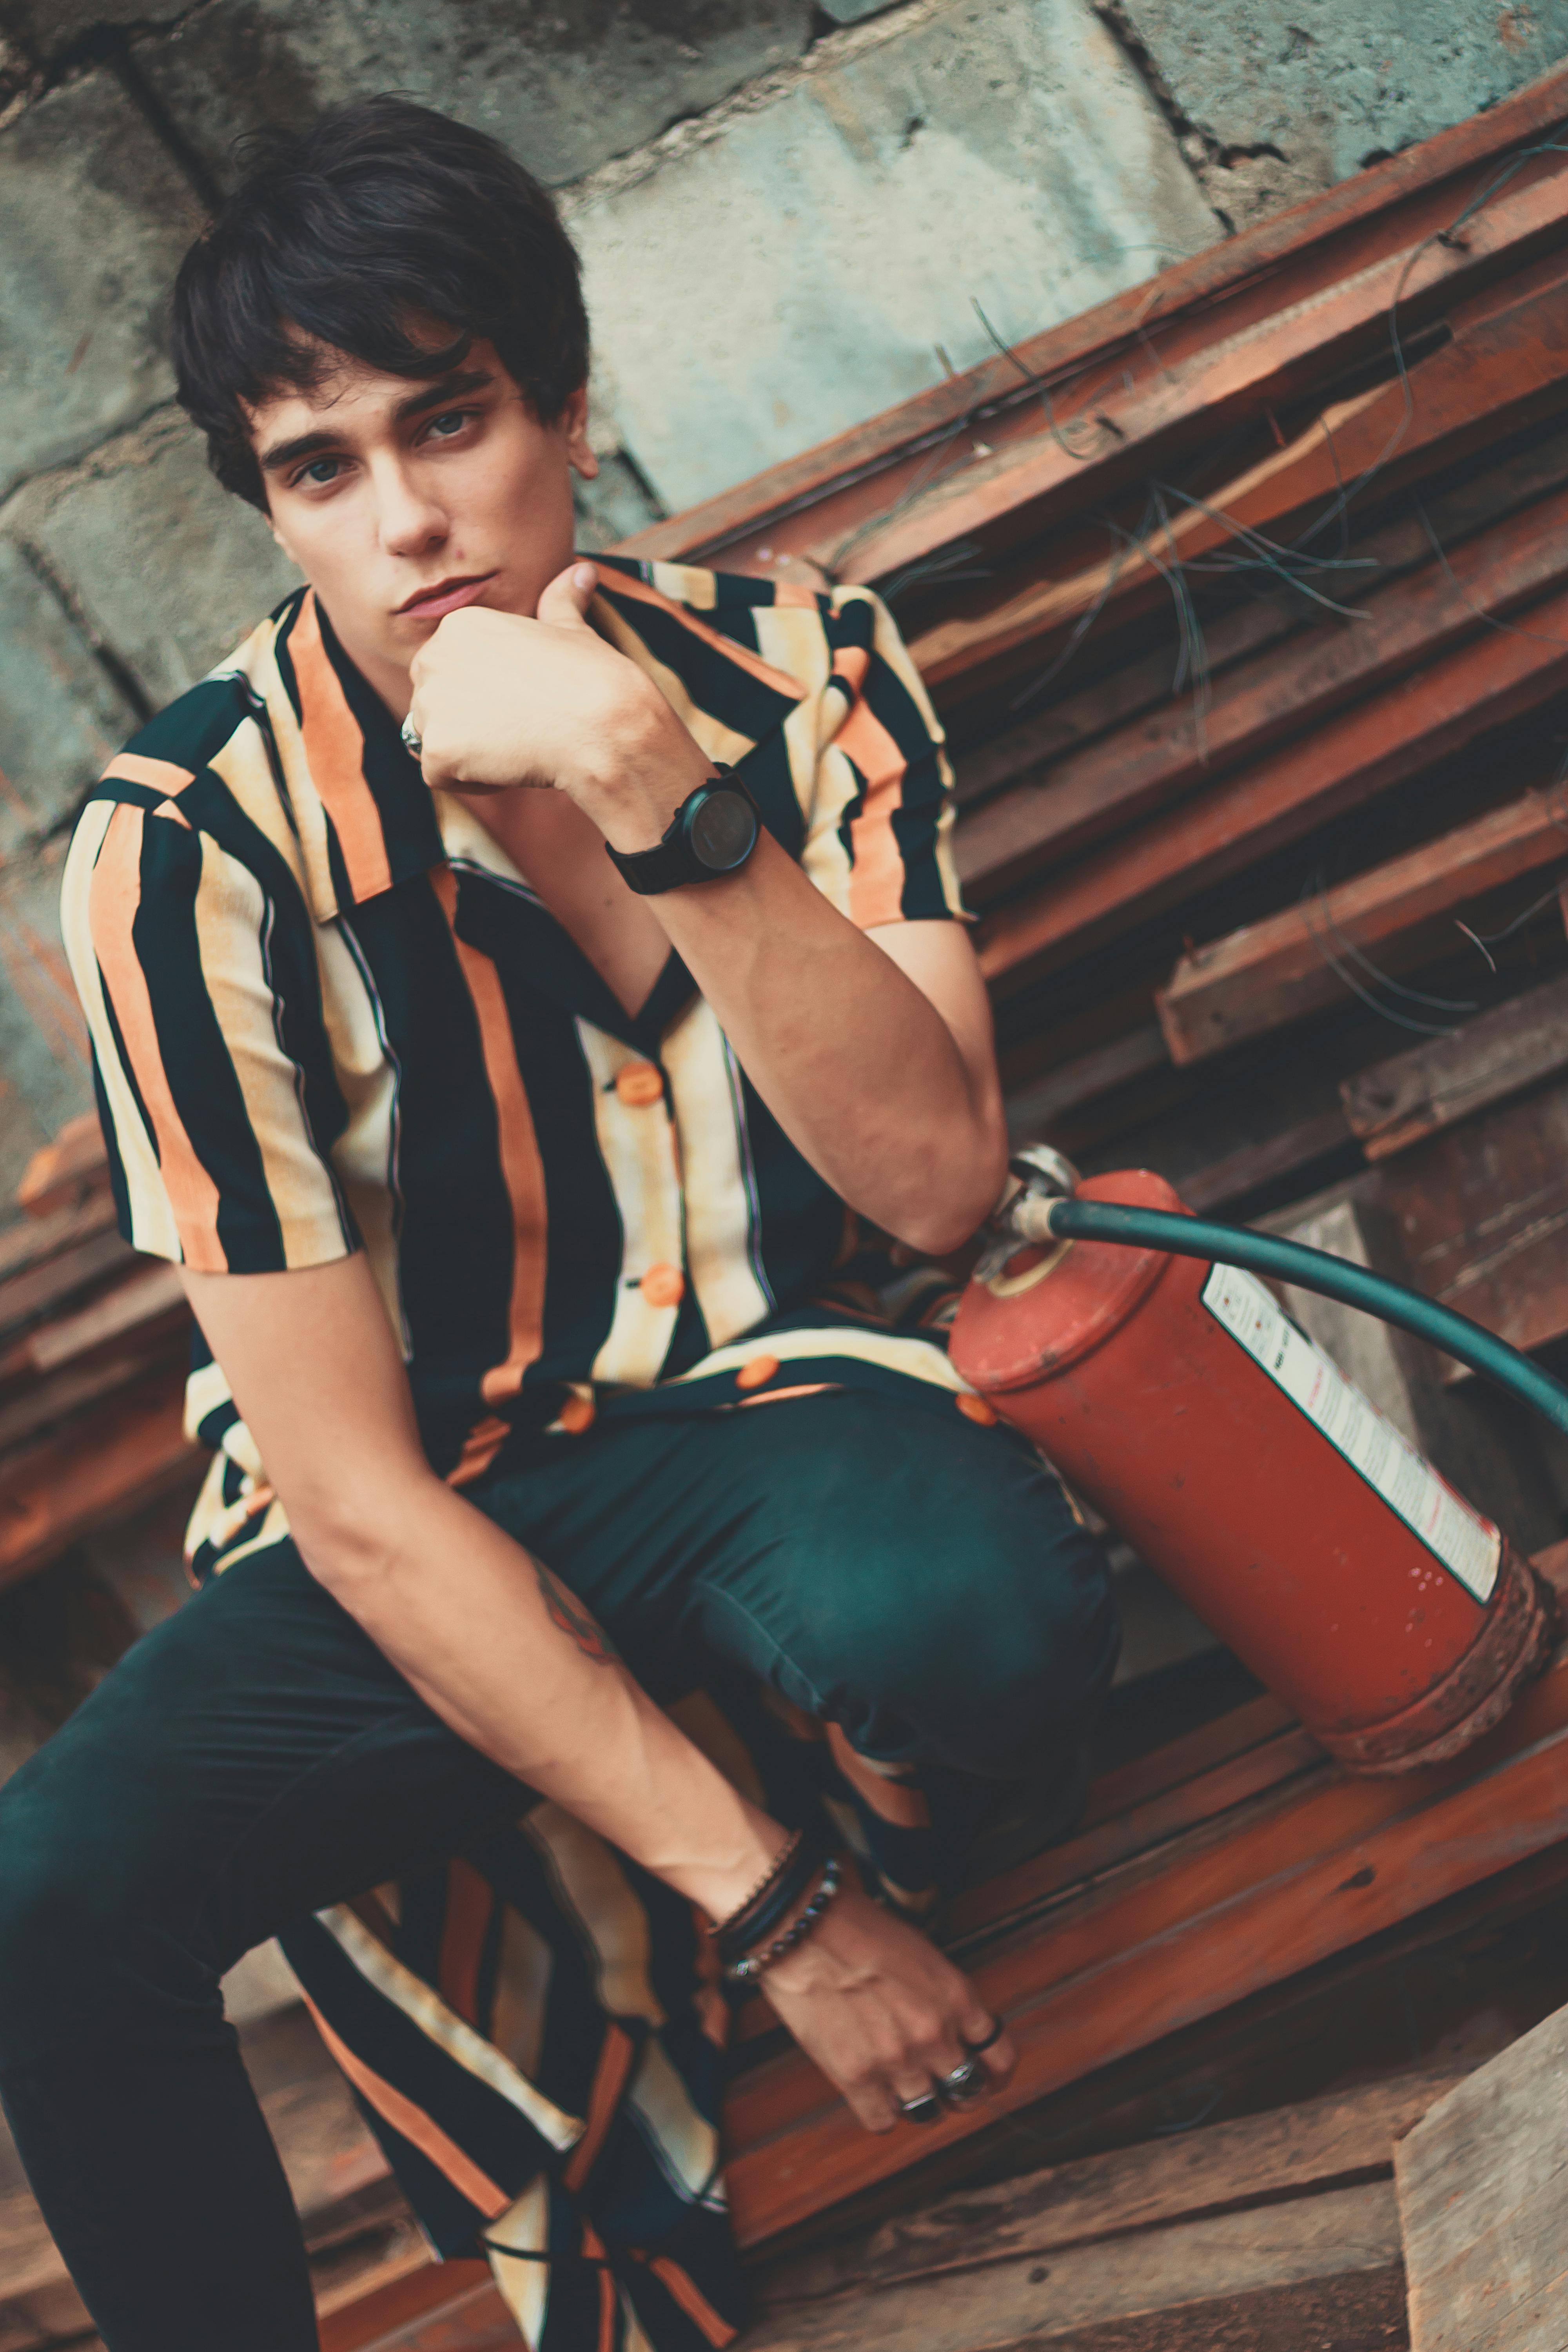extintor: (938, 1137, 1568, 1783)
